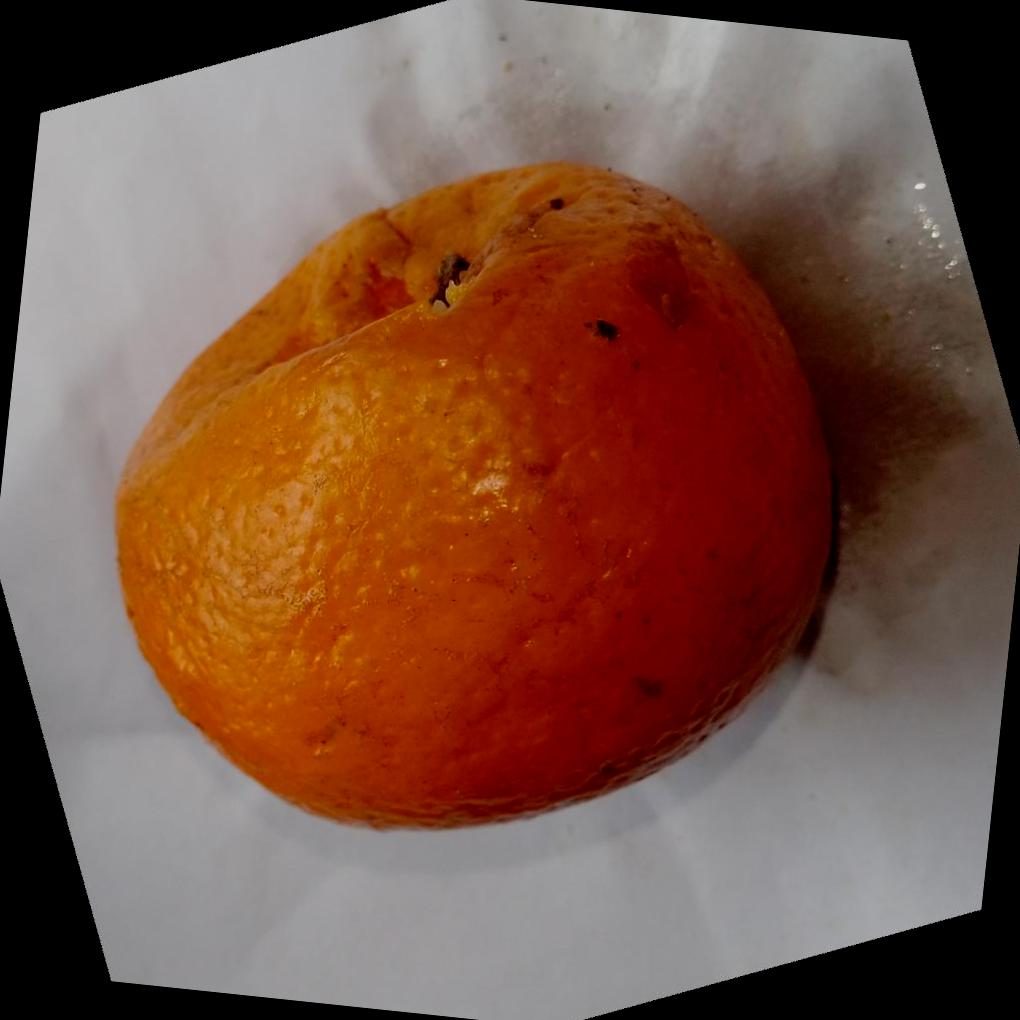FreshOrange: (112, 155, 842, 830)
